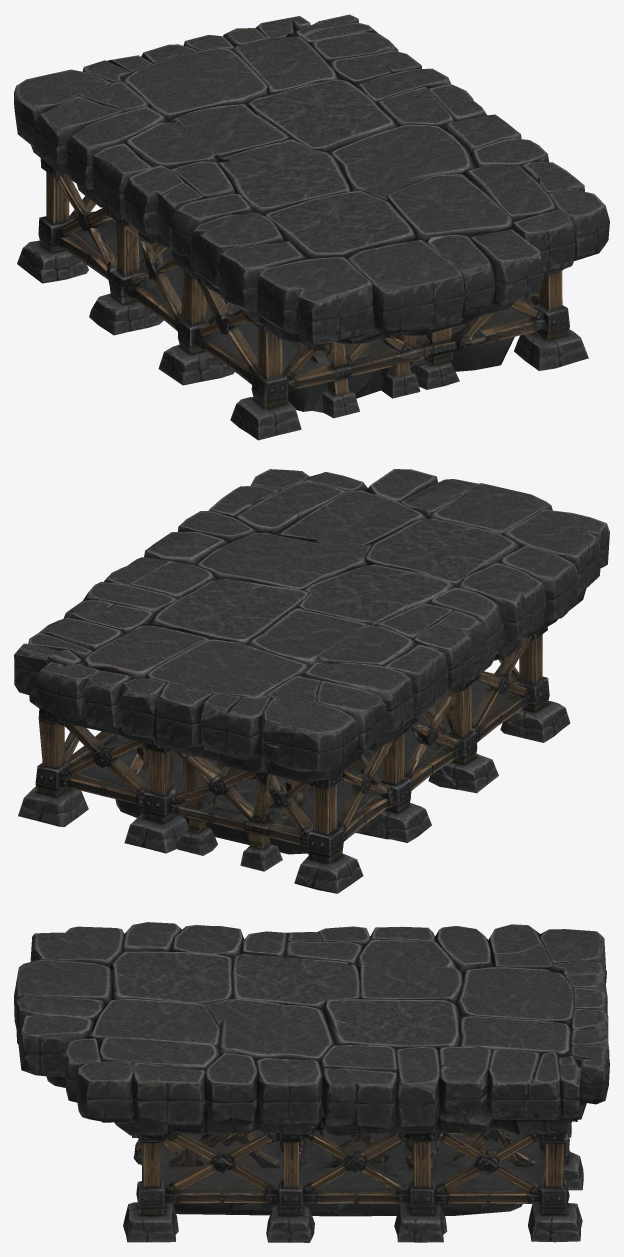
The model's file is stunt-landing-deck.glb.
3 views of the same model, one above another, from view 1: azimuth 30°, elevation 25°; view 2: azimuth 150°, elevation 25°; view 3: azimuth 270°, elevation 25° (orthographic). The views are drawn at different scales.
Size of the model in its own units: 1.24 by 0.5807 by 1.9.
1 material, 1 textured.
